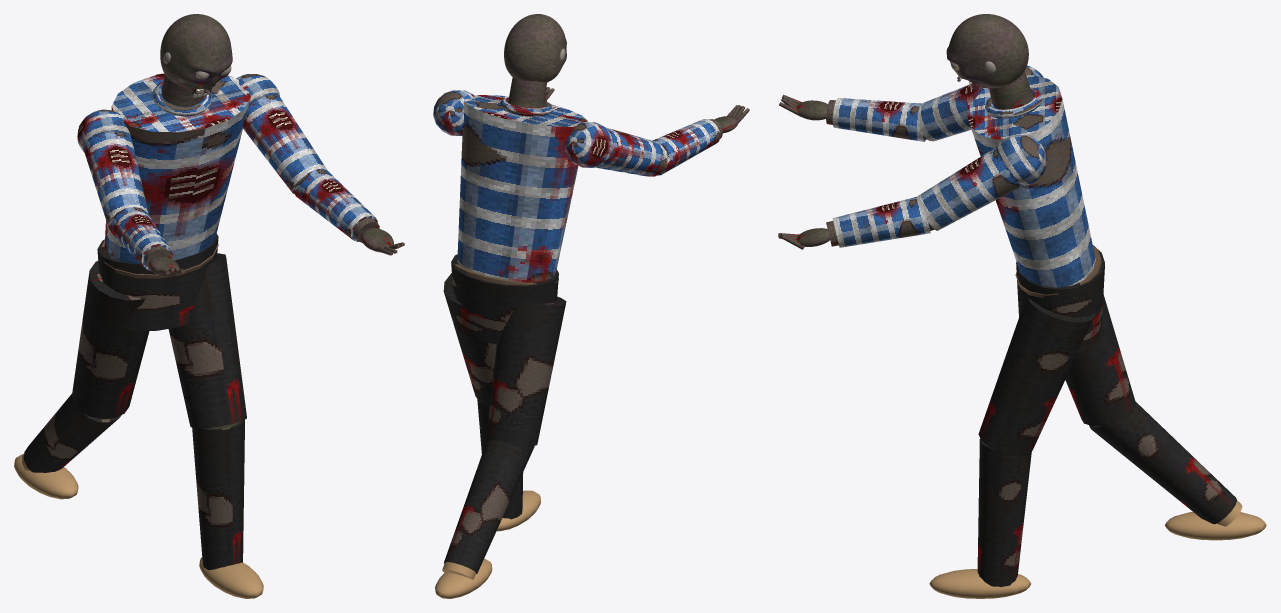
Rendered from Zombie_126.glb.
3 views of the same model, side by side, from view 1: azimuth 30°, elevation 25°; view 2: azimuth 150°, elevation 25°; view 3: azimuth 270°, elevation 25° (orthographic). The views are drawn at different scales.
Parts seen in each view (by area): view 1: Zombie_126, object 18, object 12, object 4, object 13; view 2: Zombie_126, object 18, object 4; view 3: Zombie_126, object 18, object 12, object 4.
Part boxes in pixels (left/top/right/bottom): Zombie_126: left=14, top=73, right=326, bottom=598; object 18: left=160, top=14, right=232, bottom=92; object 12: left=293, top=168, right=377, bottom=241; object 4: left=108, top=207, right=172, bottom=271; object 13: left=360, top=228, right=393, bottom=252; Zombie_126: left=433, top=77, right=667, bottom=598; object 18: left=504, top=14, right=566, bottom=82; object 4: left=652, top=119, right=720, bottom=175; Zombie_126: left=916, top=65, right=1266, bottom=598; object 18: left=946, top=14, right=1028, bottom=88; object 12: left=832, top=197, right=930, bottom=247; object 4: left=832, top=98, right=925, bottom=141.
Bounding box in the file's own units: 0.781 × 1.79 × 1.4.
15 materials, 5 textured.
